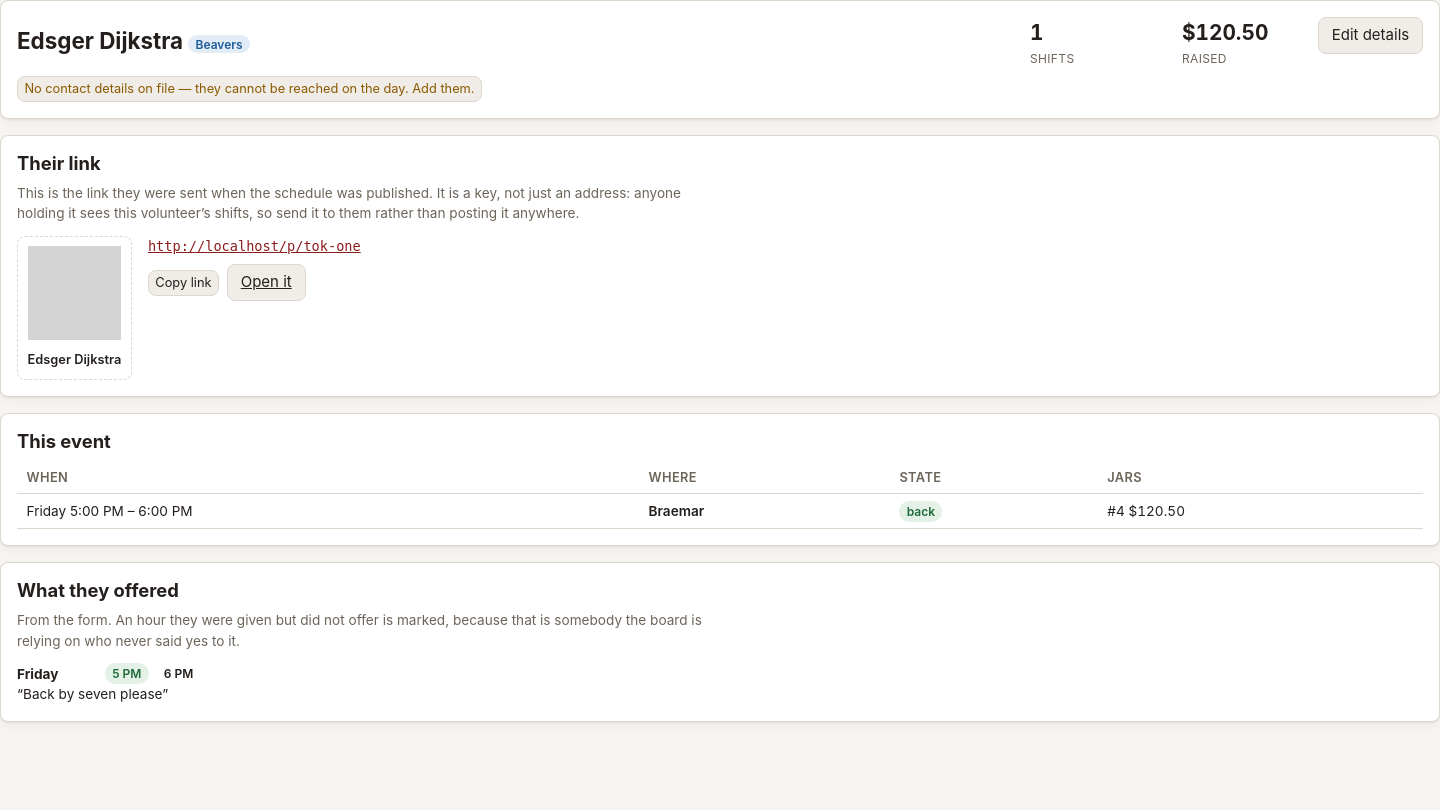
correcting their details › offers the editor as the way to fix missing contact details
Click the button "No contact details on file" at (249, 89), box [17,76,482,102]
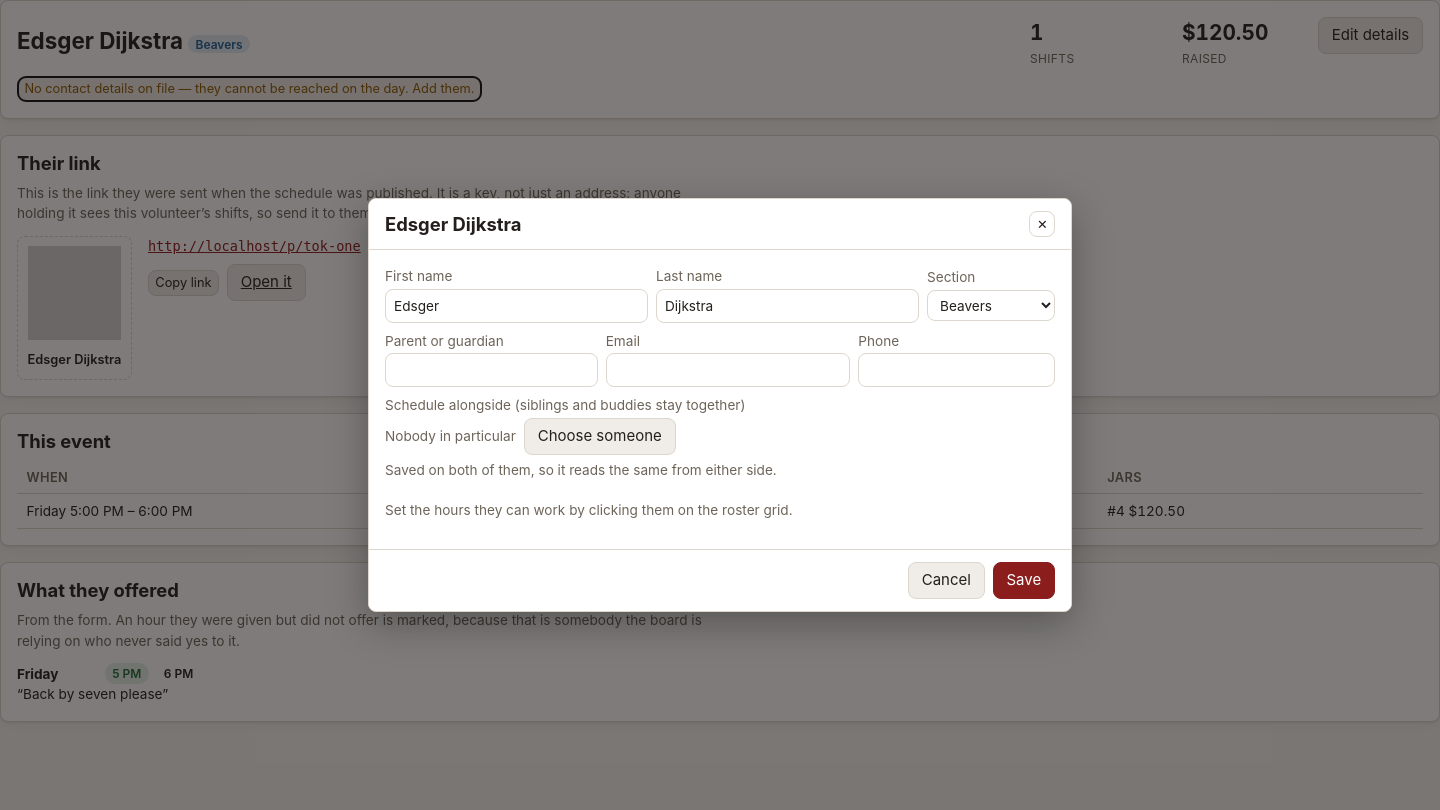
Now the dialog is shown, box [368,198,1072,612]
